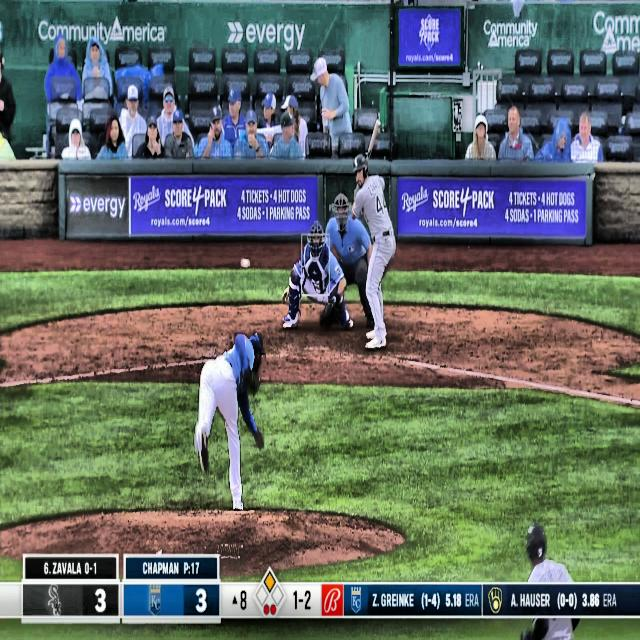baseball: (240, 257, 251, 270)
